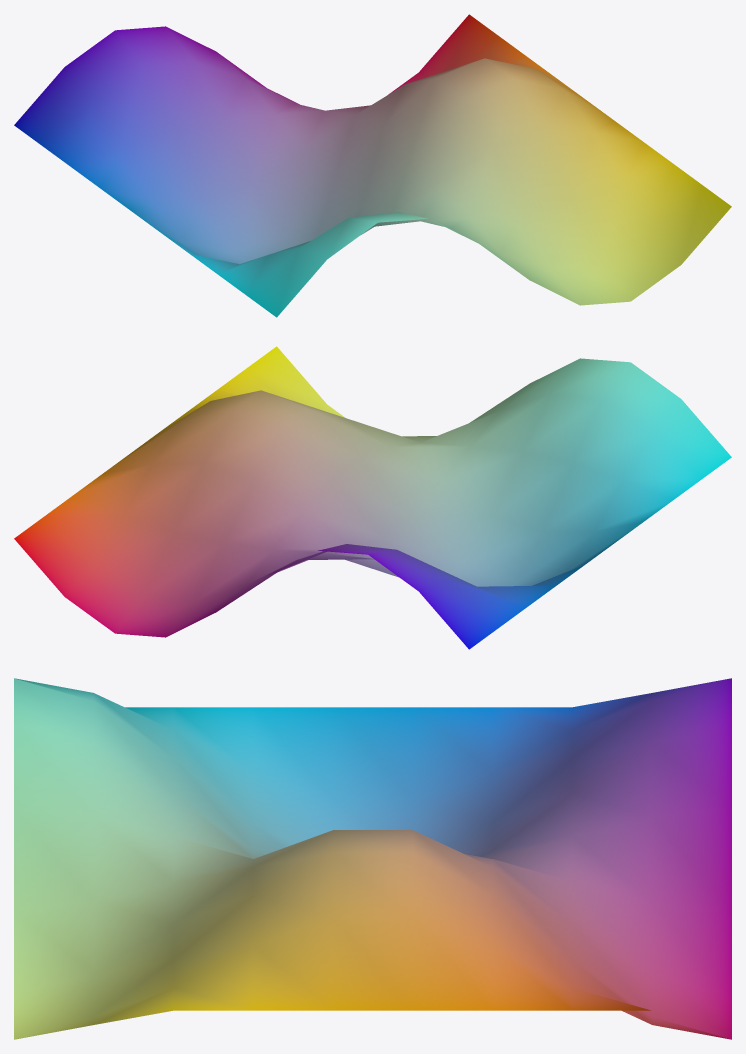
The model's file is synthetic_draco_eb_cl10_decoded.glb.
The picture shows the model from 3 angles, top to bottom: view 1: azimuth 30°, elevation 25°; view 2: azimuth 150°, elevation 25°; view 3: azimuth 270°, elevation 25°; orthographic projection. The views are drawn at different scales.
Parts seen in each view (by area): view 1: bumpy; view 2: bumpy; view 3: bumpy.
Part boxes in pixels (box(x1,y1,x2,y2)): bumpy: box(14, 14, 731, 317); bumpy: box(14, 346, 731, 649); bumpy: box(14, 678, 731, 1039).
Size of the model in its own units: 1 by 0.2954 by 1.
